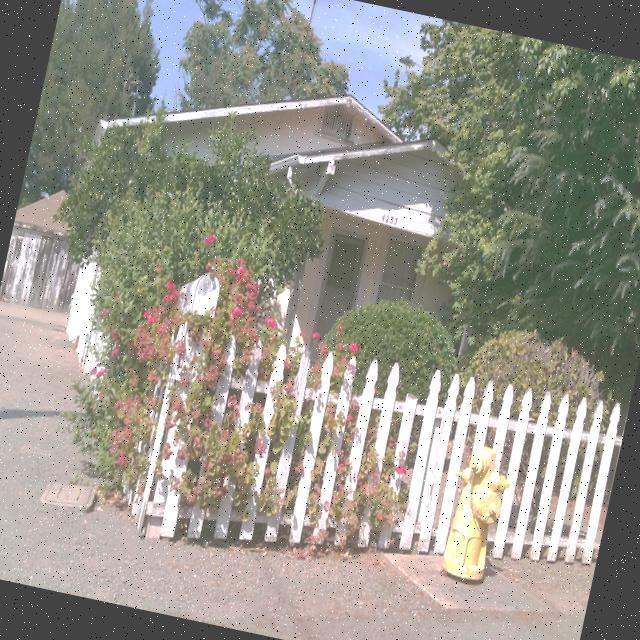fire_hydrant: (434, 441, 517, 584)
